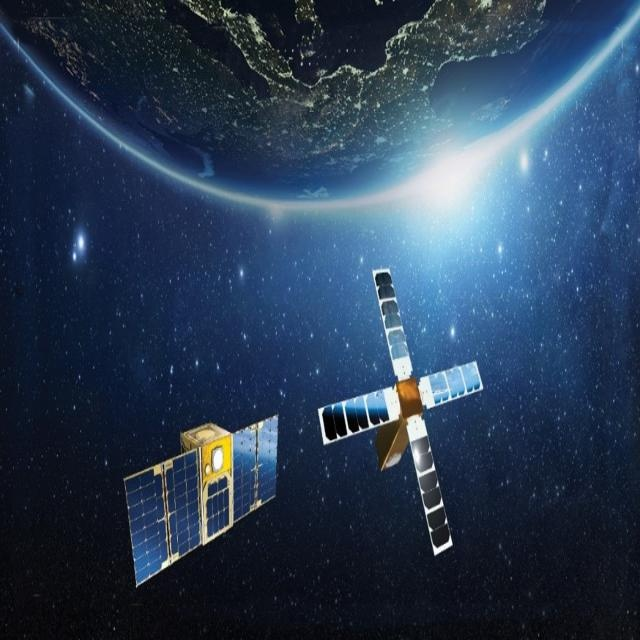satellite: (311, 252, 487, 561), (123, 390, 285, 595)
